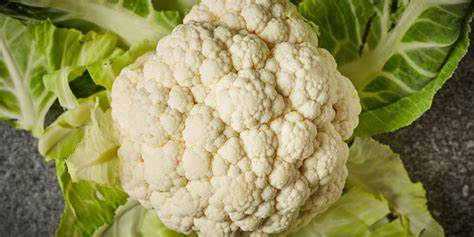Cauliflower: (98, 0, 373, 237)
